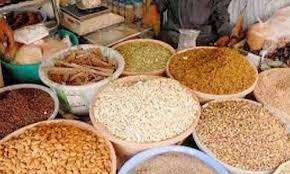Organic: (2, 1, 290, 174)
